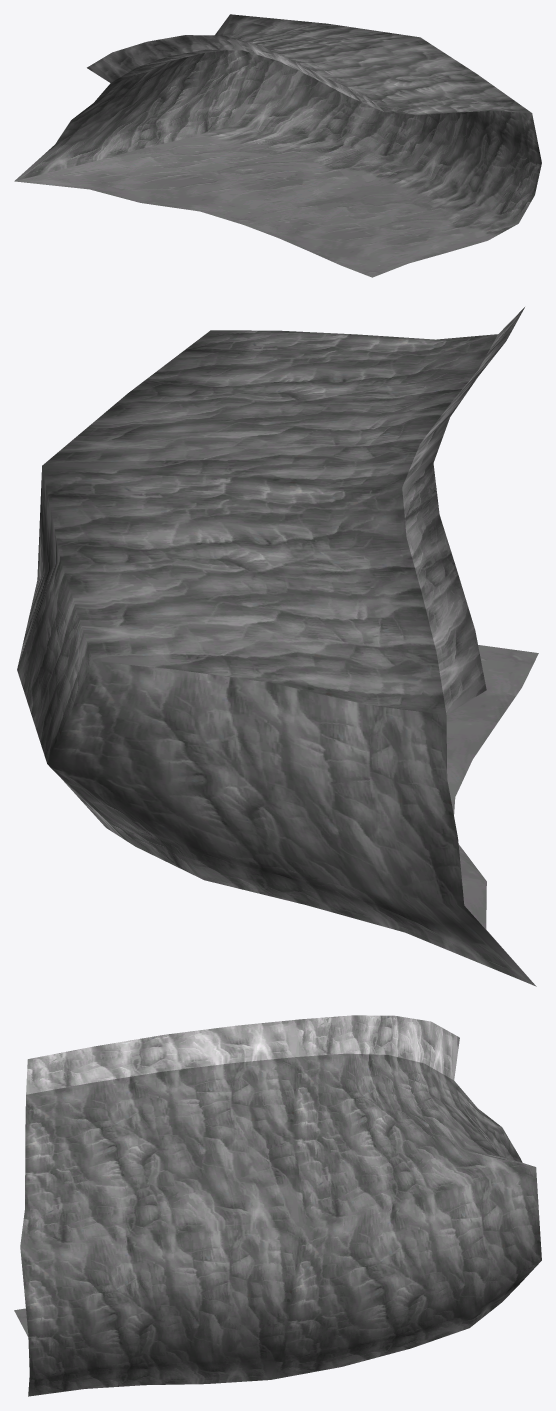
The model's file is SWORDLIGHT20_PS-AREA03_22.fbx.
The picture shows the model from 3 angles, top to bottom: view 1: azimuth 30°, elevation 25°; view 2: azimuth 150°, elevation 25°; view 3: azimuth 270°, elevation 25°; orthographic projection. The views are drawn at different scales.
Visible parts, largest first — view 1: SWORDLIGHT20_PS-AREA03_22; view 2: SWORDLIGHT20_PS-AREA03_22; view 3: SWORDLIGHT20_PS-AREA03_22.
Boxes of the visible parts, x1,y1,x2,y2 form: SWORDLIGHT20_PS-AREA03_22: [14, 14, 541, 277]; SWORDLIGHT20_PS-AREA03_22: [17, 307, 538, 986]; SWORDLIGHT20_PS-AREA03_22: [14, 1015, 541, 1396].
Size of the model in its own units: 138755 by 68627 by 125637.
4 materials, 4 textured.
